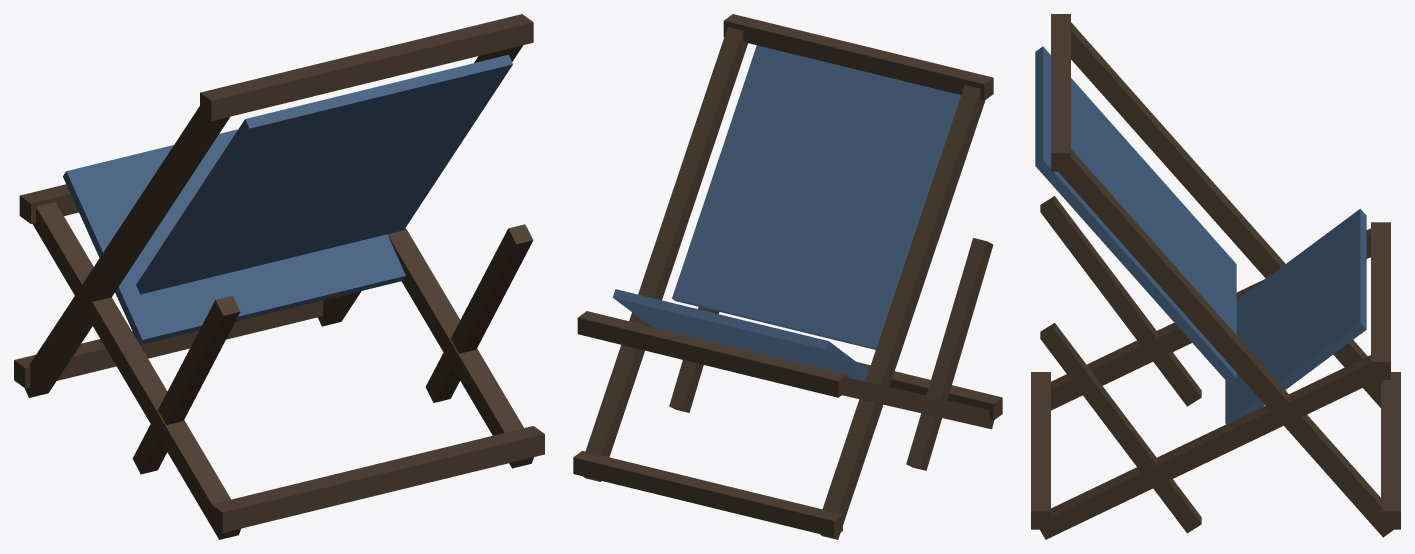
The model's file is beach_chair.glb.
The picture shows the model from 3 angles, left to right: view 1: azimuth 30°, elevation 25°; view 2: azimuth 150°, elevation 25°; view 3: azimuth 270°, elevation 25°; orthographic projection. The views are drawn at different scales.
Parts seen in each view (by area): view 1: beach_chair; view 2: beach_chair; view 3: beach_chair.
Part boxes in pixels (x1,y1,x2,y2): beach_chair: [14, 14, 544, 539]; beach_chair: [573, 14, 1002, 539]; beach_chair: [1031, 14, 1400, 539].
Size of what is drawn, in the model's own units: 0.66 by 0.8577 by 0.74.
1 material, 1 textured.
